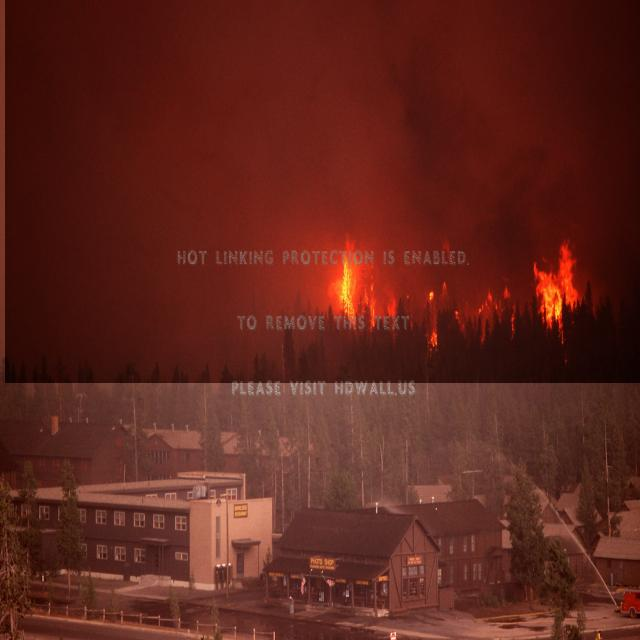Fire: (321, 232, 376, 348), (526, 245, 586, 338), (476, 277, 526, 338), (428, 322, 442, 354)
Smoke: (5, 0, 640, 383)
